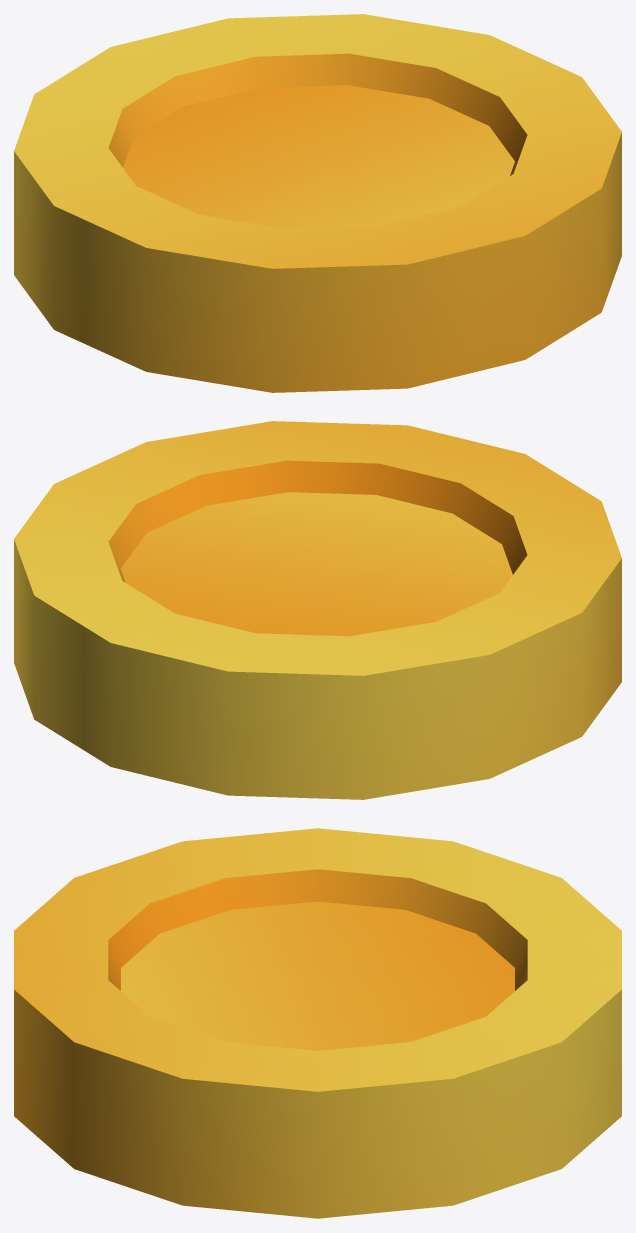
File: Gold_Coin.fbx
3 views of the same model, one above another, from view 1: azimuth 30°, elevation 25°; view 2: azimuth 150°, elevation 25°; view 3: azimuth 270°, elevation 25° (orthographic). The views are drawn at different scales.
Visible parts, largest first — view 1: Gold_Coin; view 2: Gold_Coin; view 3: Gold_Coin.
Boxes of the visible parts, x1,y1,x2,y2 form: Gold_Coin: [14, 14, 621, 392]; Gold_Coin: [14, 421, 621, 799]; Gold_Coin: [14, 828, 621, 1218].
Bounding box in the file's own units: 46.08 × 10.34 × 44.92.
